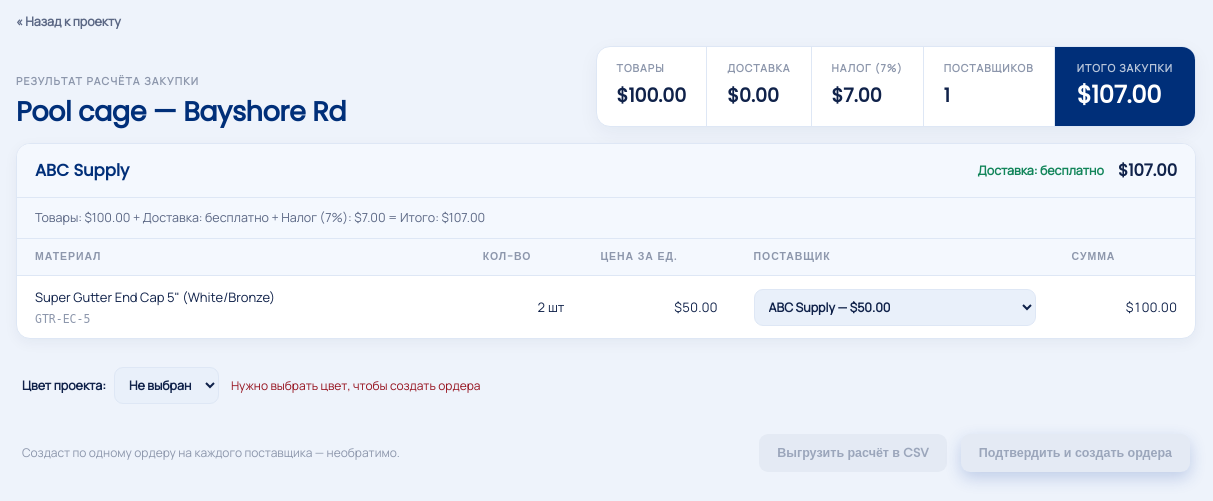
AllocationResultPage › color_choice required before order creation (ADR-0031 §3) › lets the employee pick a color right on this page, enabling the button without leaving for the project page
This screenshot has width=1213, height=501.
Expected: the button "Подтвердить и создать ордера" is disabled, [961, 434, 1190, 472]
Select "White" in the dropdown labelled "Цвет проекта:" at (166, 386), box [114, 367, 219, 404]
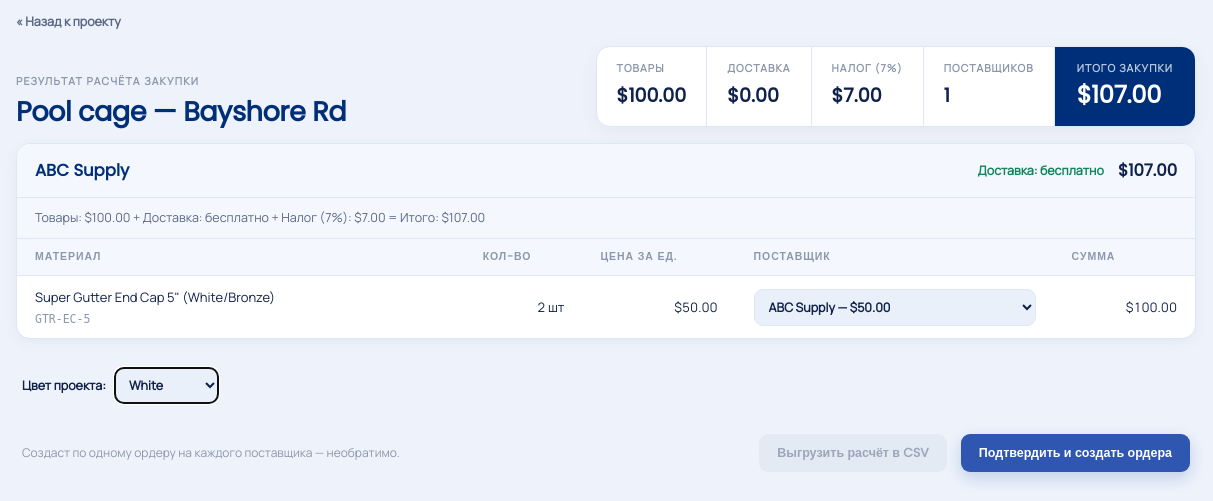
Expected: the button "Подтвердить и создать ордера" is enabled, [961, 434, 1190, 472]
